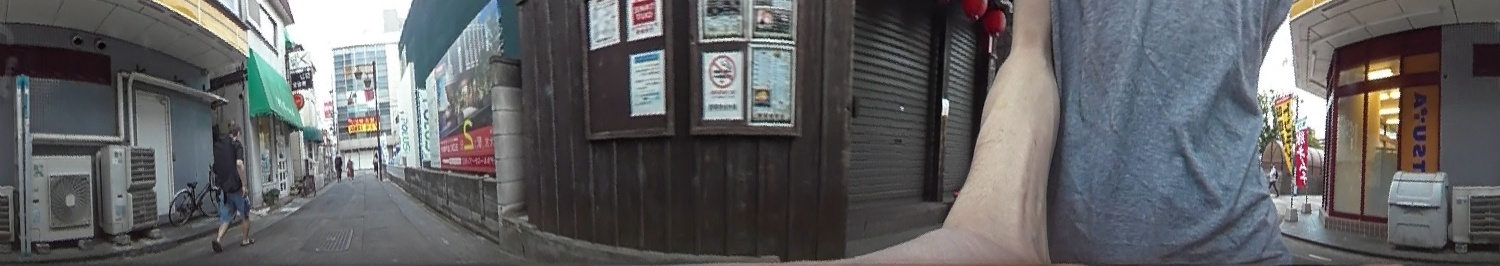difficult_person: (334, 153, 343, 181)
person: (211, 120, 256, 248)
